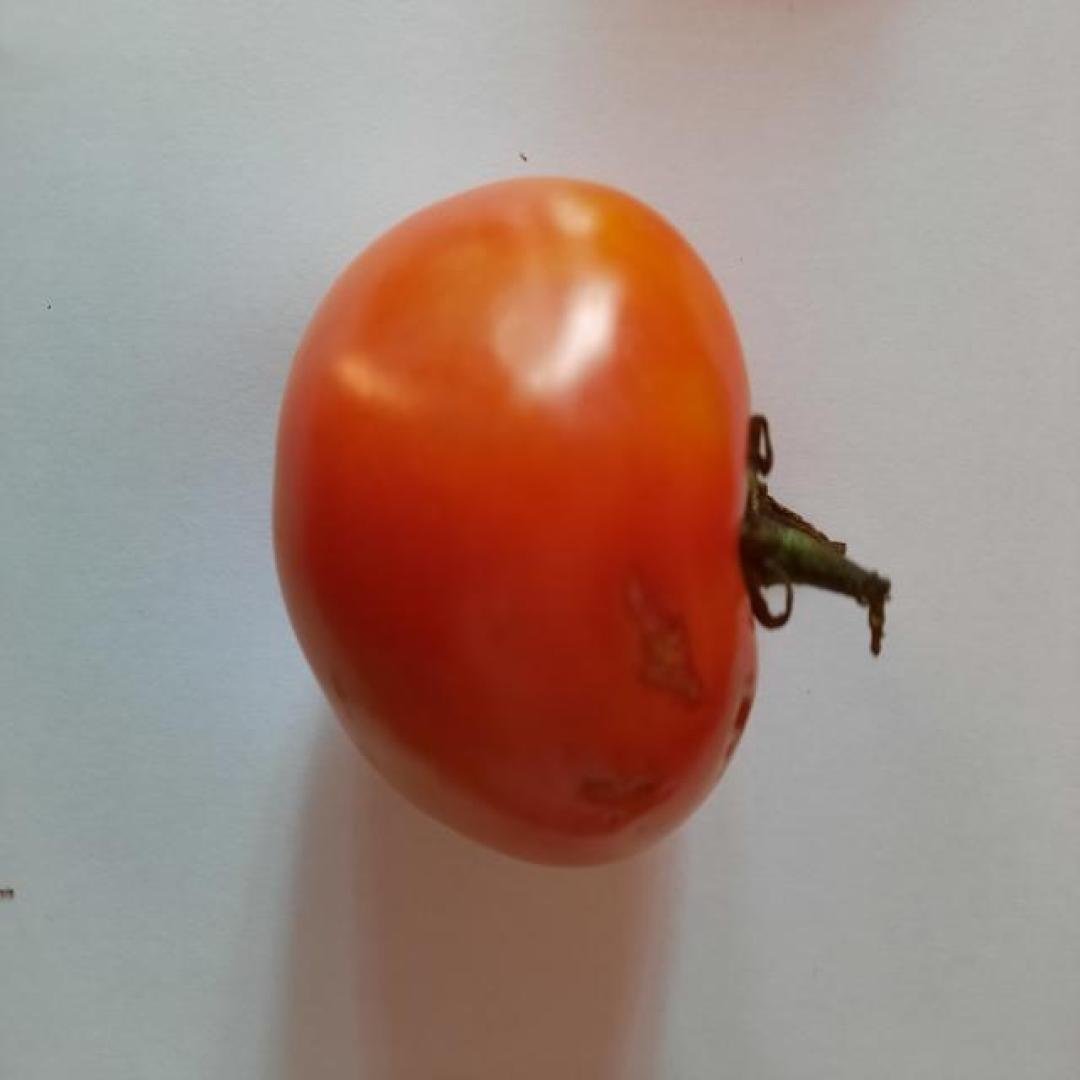matang: (270, 176, 894, 868)
